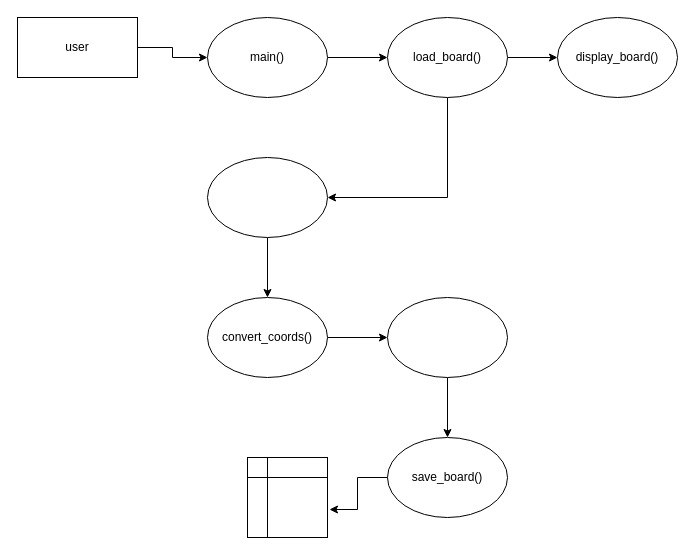
The diagram is 695 pixels wide and 555 high, and some of its shapes have lost their labels. The shapes that lost their labels are listed below. From the top down, each one's centre as x and y in pixels, then its label:
At [267,197]: "prompt_for_move()".
At [447,337]: "validate_move()".
At [287,497]: "game file".
